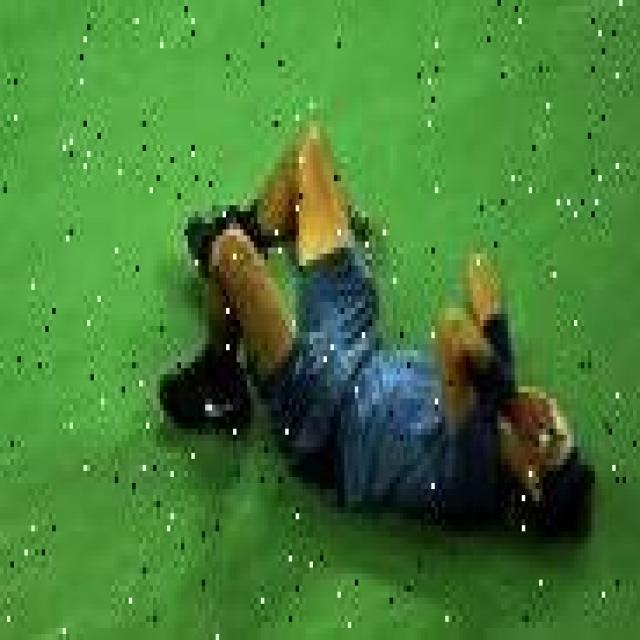fall: (173, 132, 584, 520)
